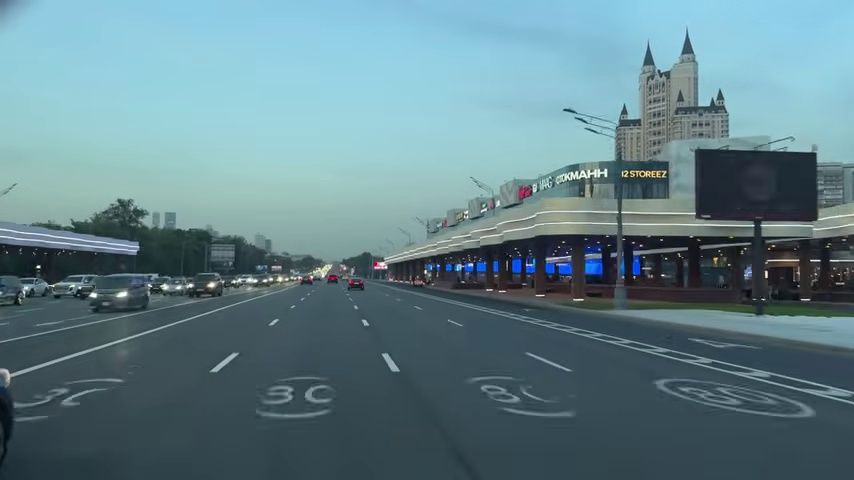apagada: (561, 104, 584, 128)
